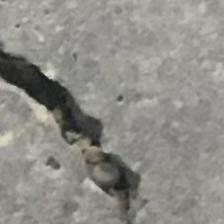Crack: (0, 30, 160, 224)
